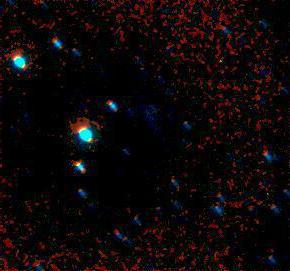star: (227, 20, 257, 50)
